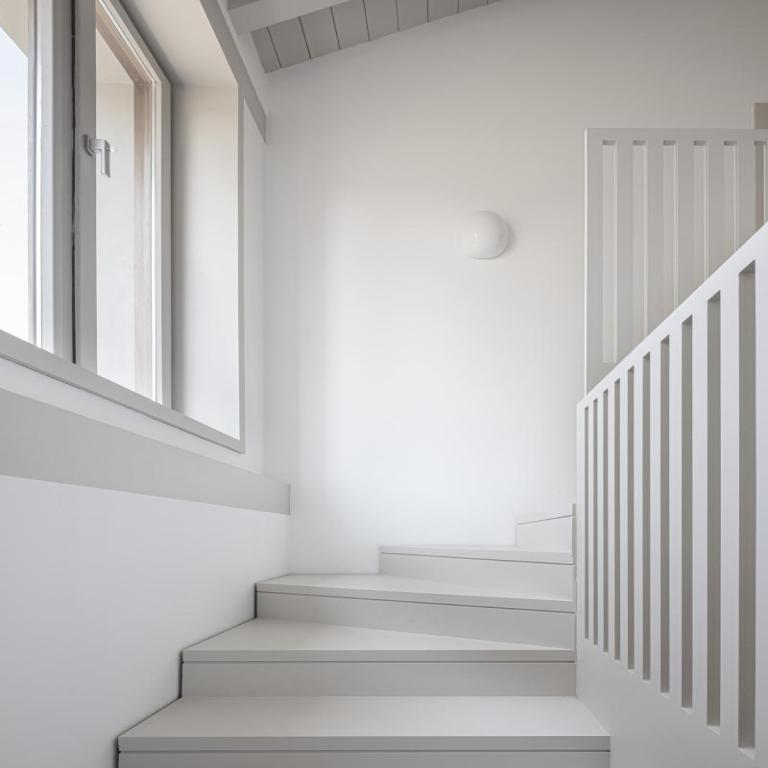white-walls: (26, 35, 736, 727)
